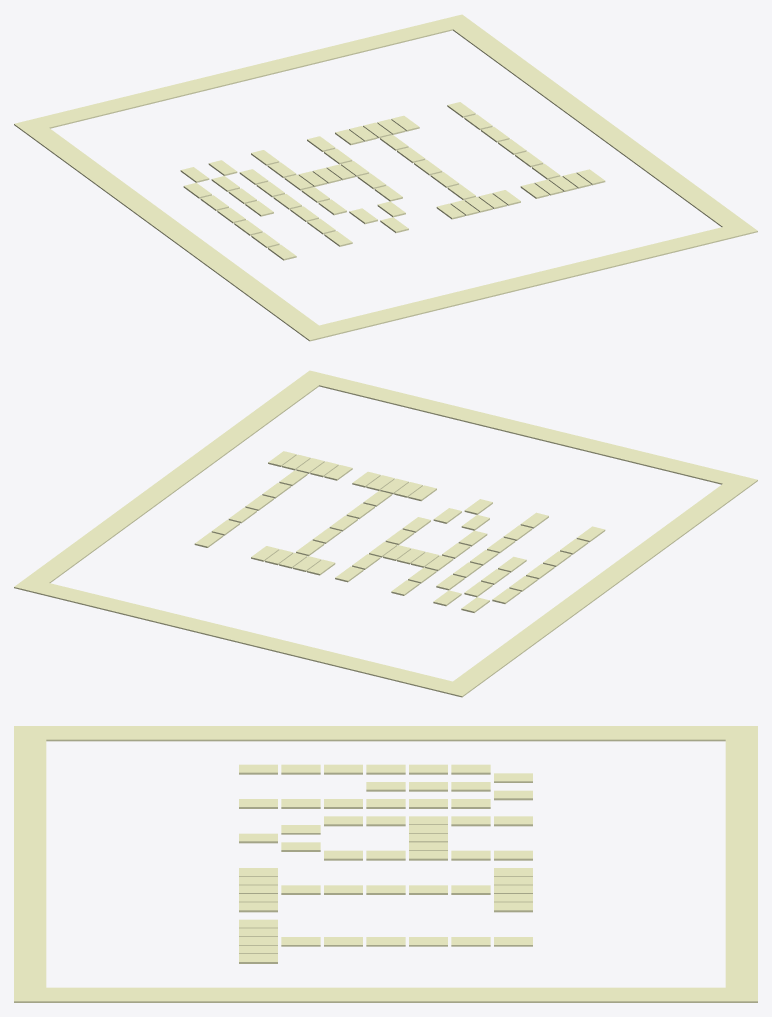
Rendered from marking_wait_here_box_white.glb.
3 renders of one model, top to bottom at view 1: azimuth 30°, elevation 25°; view 2: azimuth 150°, elevation 25°; view 3: azimuth 270°, elevation 25°, orthographic. The views are drawn at different scales.
Parts seen in each view (by area): view 1: wait_here_box_bottom, wait_here_box_top, wait_here_box_left, wait_here_box_right; view 2: wait_here_box_top, wait_here_box_bottom, wait_here_box_left, wait_here_box_right; view 3: wait_here_box_left, wait_here_box_right, wait_here_box_top, wait_here_box_bottom.
Boxes of the visible parts, bbox=[...] form: wait_here_box_bottom: bbox=[297, 221, 757, 341]; wait_here_box_top: bbox=[14, 14, 474, 133]; wait_here_box_left: bbox=[26, 128, 318, 331]; wait_here_box_right: bbox=[453, 24, 744, 226]; wait_here_box_top: bbox=[14, 577, 474, 697]; wait_here_box_bottom: bbox=[297, 370, 757, 489]; wait_here_box_left: bbox=[453, 484, 745, 687]; wait_here_box_right: bbox=[27, 380, 318, 582]; wait_here_box_left: bbox=[46, 726, 725, 741]; wait_here_box_right: bbox=[46, 987, 725, 1002]; wait_here_box_top: bbox=[725, 726, 757, 1002]; wait_here_box_bottom: bbox=[14, 726, 46, 1002].
Bounding box in the file's own units: 1.82 × 0.006 × 2.08.
